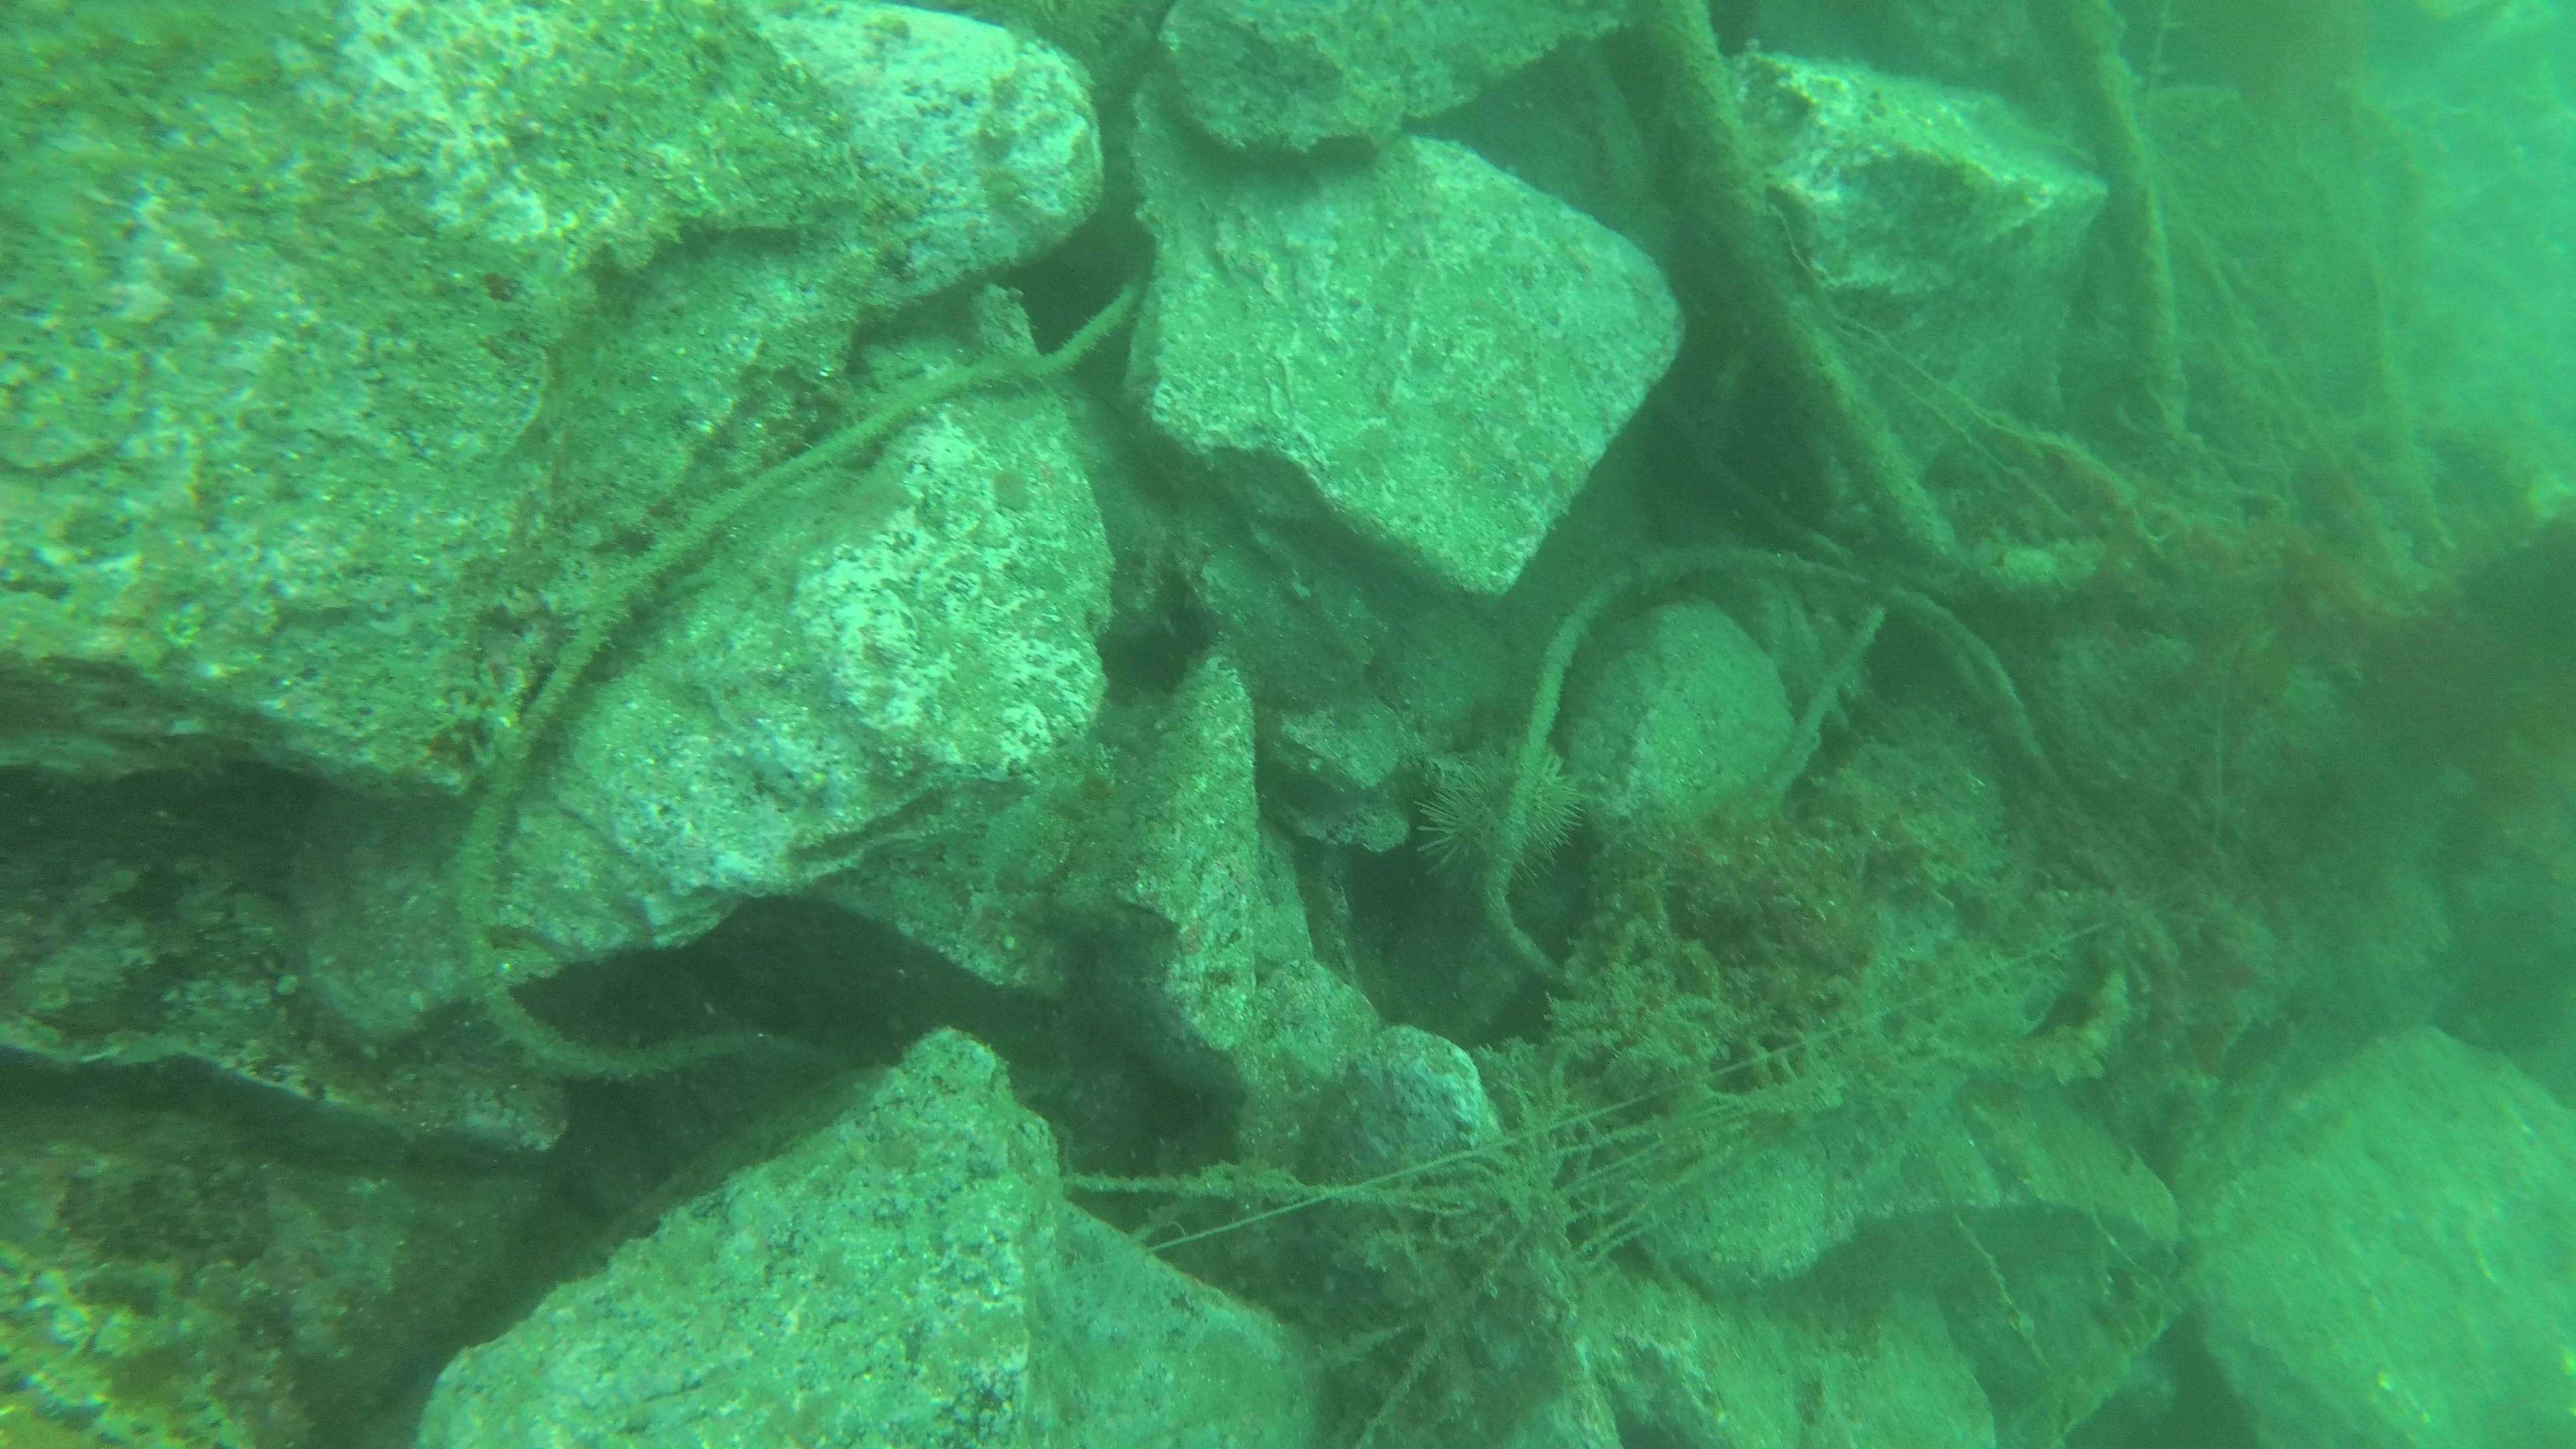echinus: (1405, 720, 1594, 908)
